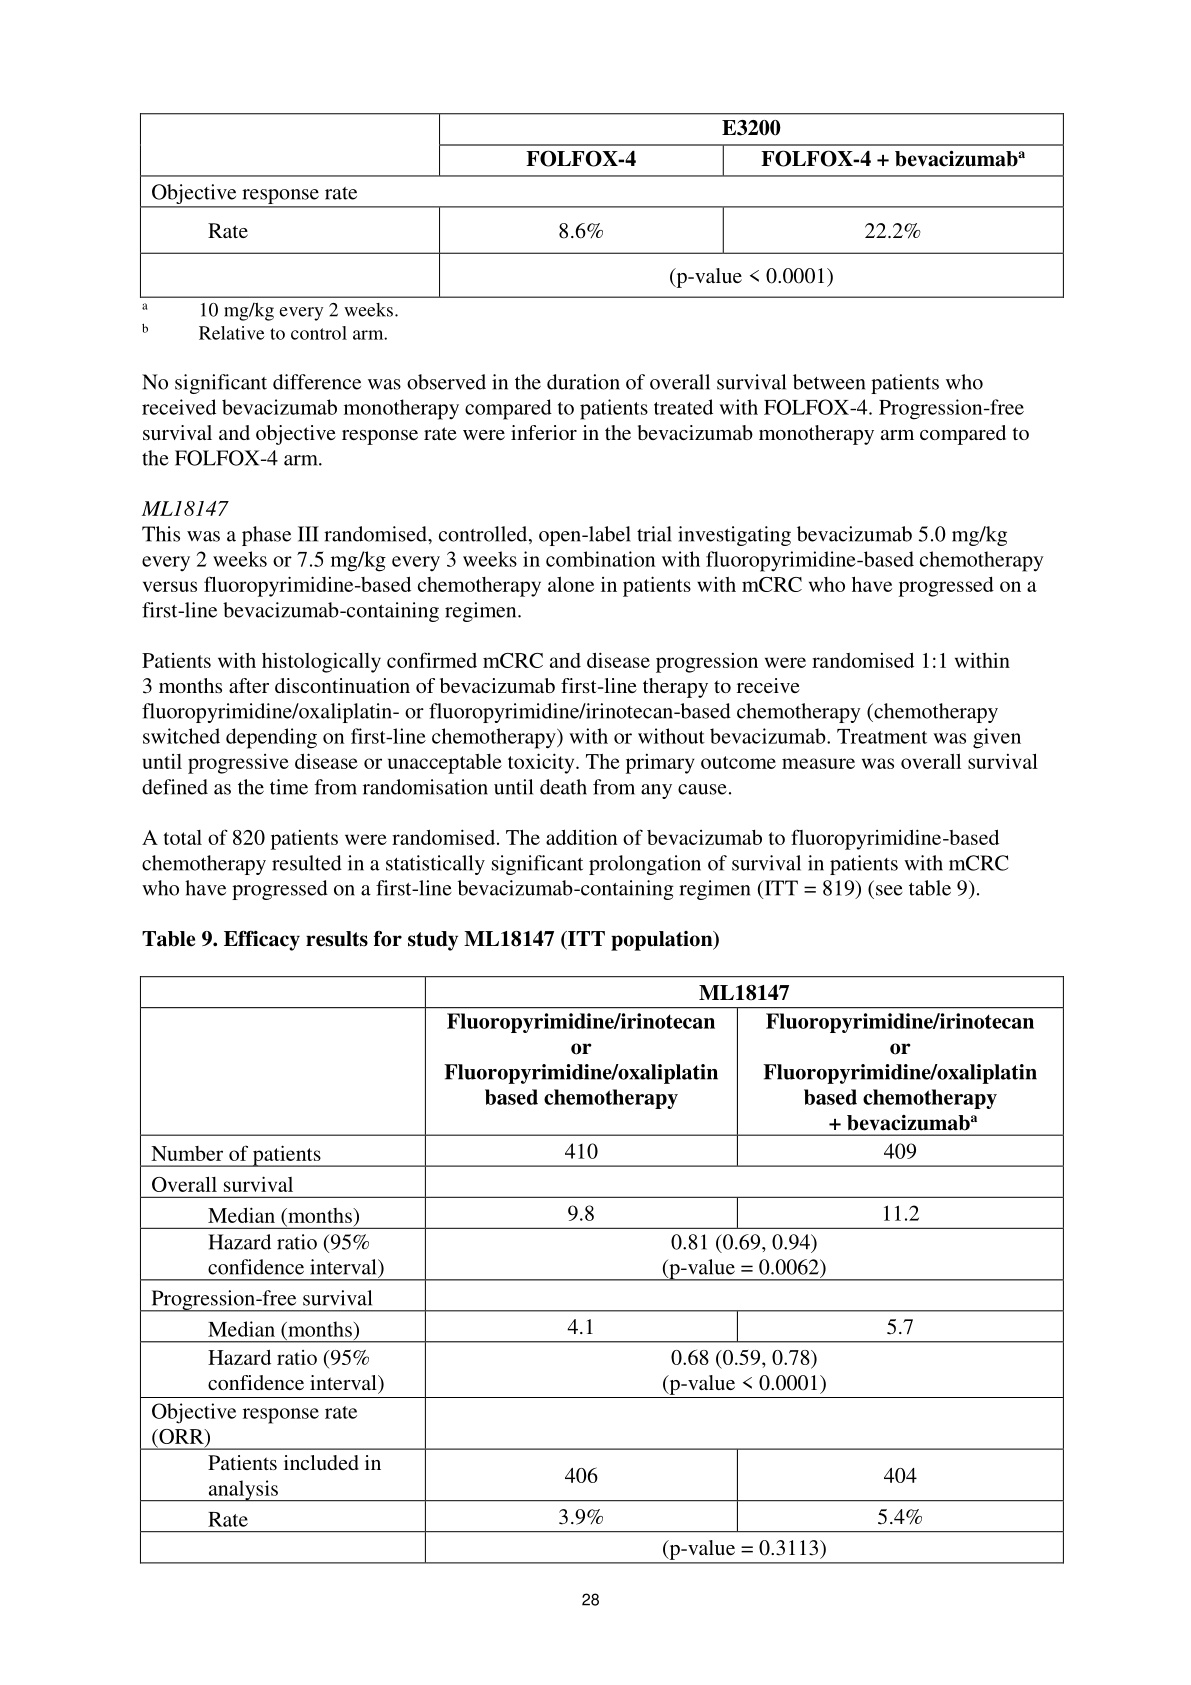merged_cells: (139, 975, 1063, 1564), (138, 112, 1063, 299)
